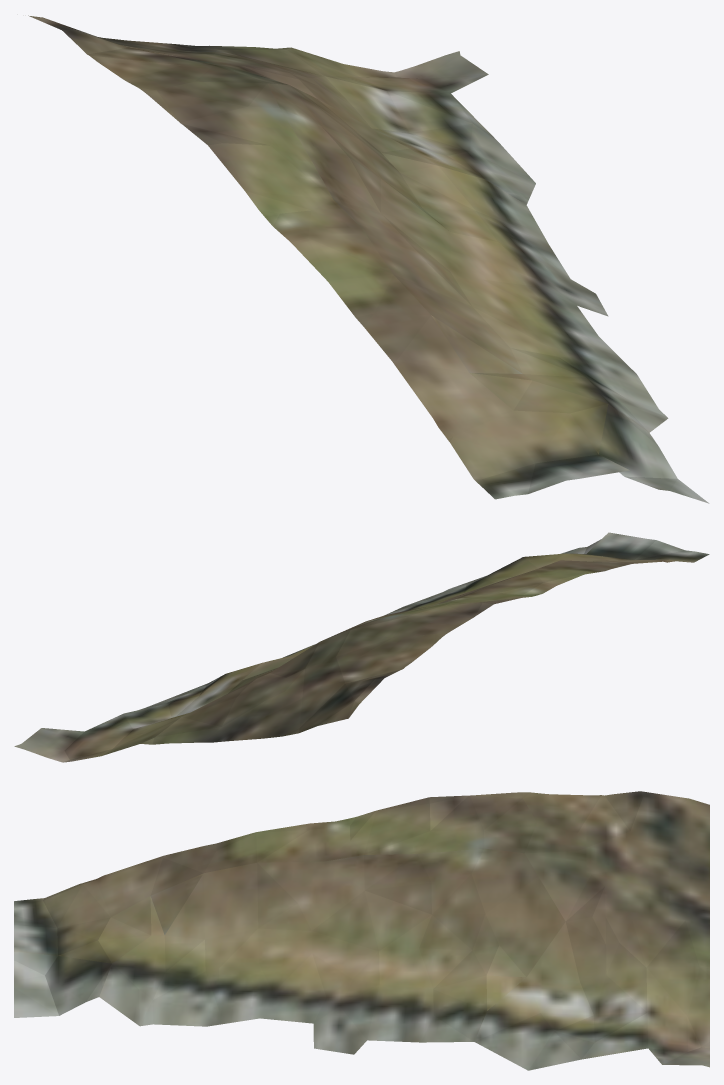
3 views of the same model, one above another, from view 1: azimuth 30°, elevation 25°; view 2: azimuth 150°, elevation 25°; view 3: azimuth 270°, elevation 25° (orthographic). The views are drawn at different scales.
Bounding box in the file's own units: 27.92 × 12.51 × 52.22.
1 material, 1 textured.
